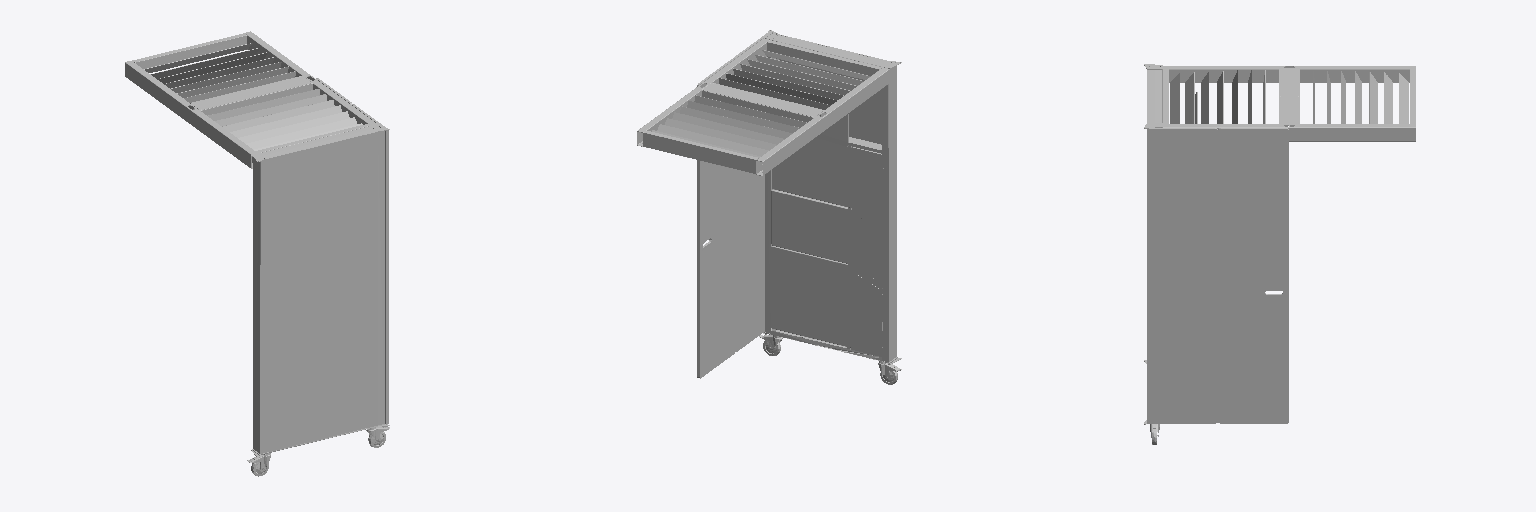
File: booth.obj
The picture shows the model from 3 angles: view 1: azimuth 30°, elevation 25°; view 2: azimuth 150°, elevation 25°; view 3: azimuth 270°, elevation 25°; orthographic projection.
Visible parts, largest first — view 1: Boss-Extrude1.002_Untitled.088, Fillets_Untitled.118, VerticalFrameBar_Cube.001, Cut-Extrude4_Untitled.013, Boss-Extrude2.005_Untitled.126, BackWall_Plane, Body-Move/Copy1_Untitled.172, #31_(0.12)_Diameter_Hole1_Untitled.047, TopBar_Cube.003; view 2: Fillets_Untitled.118, BackWall.001_Plane.001, Fillet2.004_Untitled.029, BackWall_Plane, VerticalFrameBar_Cube.001, Fillet2.006_Untitled.030, Cut-Extrude4_Untitled.013, Fillet2.008_Untitled.037, Boss-Extrude2.005_Untitled.126, Fillet9_Untitled.185, #29_(0.136)_Diameter_Hole1.002_Untitled.150, Cut-Extrude4.003_Untitled.167 (+5 smaller); view 3: BackWall_Plane, BackWall.001_Plane.001, Cut-Extrude4_Untitled.013, Fillets_Untitled.118, Body-Move/Copy1_Untitled.172, TopBar_Cube.003, Boss-Extrude2.005_Untitled.126.
Part boxes in pixels (bbox=[...]): Boss-Extrude1.002_Untitled.088: bbox=[268, 132, 377, 451]; Fillets_Untitled.118: bbox=[144, 43, 362, 150]; VerticalFrameBar_Cube.001: bbox=[253, 125, 384, 453]; Cut-Extrude4_Untitled.013: bbox=[125, 31, 376, 168]; Boss-Extrude2.005_Untitled.126: bbox=[132, 33, 370, 152]; BackWall_Plane: bbox=[352, 104, 388, 424]; Body-Move/Copy1_Untitled.172: bbox=[190, 76, 311, 109]; #31_(0.12)_Diameter_Hole1_Untitled.047: bbox=[194, 83, 312, 115]; TopBar_Cube.003: bbox=[260, 126, 375, 157]; Fillets_Untitled.118: bbox=[652, 50, 870, 164]; BackWall.001_Plane.001: bbox=[697, 59, 734, 378]; Fillet2.004_Untitled.029: bbox=[771, 246, 881, 349]; BackWall_Plane: bbox=[733, 33, 766, 351]; VerticalFrameBar_Cube.001: bbox=[765, 34, 896, 361]; Fillet2.006_Untitled.030: bbox=[771, 190, 881, 263]; Cut-Extrude4_Untitled.013: bbox=[637, 38, 889, 175]; Fillet2.008_Untitled.037: bbox=[772, 139, 880, 207]; Boss-Extrude2.005_Untitled.126: bbox=[644, 40, 882, 173]; Fillet9_Untitled.185: bbox=[851, 218, 882, 288]; #29_(0.136)_Diameter_Hole1.002_Untitled.150: bbox=[852, 159, 883, 224]; Cut-Extrude4.003_Untitled.167: bbox=[851, 271, 882, 335]; BackWall_Plane: bbox=[1147, 128, 1217, 423]; BackWall.001_Plane.001: bbox=[1218, 128, 1288, 423]; Cut-Extrude4_Untitled.013: bbox=[1163, 66, 1415, 141]; Fillets_Untitled.118: bbox=[1170, 70, 1408, 123]; Body-Move/Copy1_Untitled.172: bbox=[1280, 69, 1299, 123]; TopBar_Cube.003: bbox=[1148, 70, 1161, 122]; Boss-Extrude2.005_Untitled.126: bbox=[1163, 69, 1415, 123].
Size of the model in its own units: 1.03 by 2.24 by 1.73.